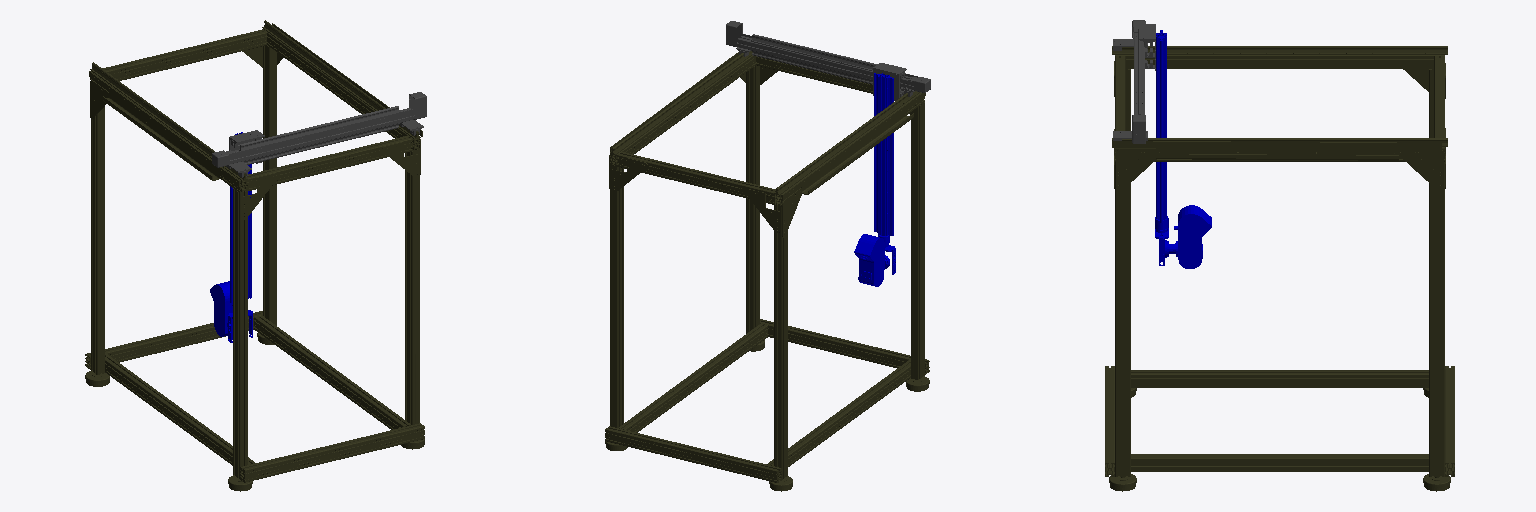
URDF robot description (prise3):
<?xml version="1.0" ?>
<!-- =================================================================================== -->
<!-- |    This document was autogenerated by xacro from ./robots/prise4.xacro          | -->
<!-- |    EDITING THIS FILE BY HAND IS NOT RECOMMENDED                                 | -->
<!-- =================================================================================== -->
<!-- Revolute-Revolute Manipulator -->
<robot name="prise3" xmlns:xacro="http://www.ros.org/wiki/xacro">
  <link name="world"/>
  <link name="base_link">
    <inertial>
      <origin rpy="0 0 0" xyz="0 0 0"/>
      <mass value="54"/>
 
                    <inertia
        ixx="76.8709047512236"
        ixy="-0.317641732156655"
        ixz="-2.72714300565647"
        iyy="59.4673166498106"
        iyz="2.93869533447697"
        izz="54.3371716853488" />
   
    </inertial>
    <visual>
      <origin rpy="0 0 0" xyz="0 0 0"/>
      <geometry>
        <mesh filename="package://prise3_gazebo/meshes/base_linkv2.stl"/>
      </geometry>
      <material name="">
        <color rgba="0.25 0.25 0.16 1"/>
      </material>
    </visual>
  </link>

 <joint name="fixed" type="fixed">
    <parent link="world"/>
    <child link="base_link"/>
  </joint> 


 <link name="axe_x_link">
   <inertial>
      <origin xyz="0 0 2.27436746463313"  rpy="0 0 0" />
      <mass  value="1.24718562315346" />
      <inertia  ixx="0.00553600382926194" ixy="4.16135471249498E-07"  ixz="-2.6765103577275E-06"
        iyy="0.528726480355761" iyz="0.00063946667879318"  izz="0.527869777651479"/>
    </inertial>
    <visual>
      <origin rpy="0 0 0" xyz="0 0 0"/>
      <geometry>
        <mesh filename="package://prise3_gazebo/meshes/axe_xv2.stl"/>
      </geometry>
      <material name="">
        <color rgba="0.32 0.32 0.32 1"/>
      </material>
    </visual>
  
  </link>
  <joint name="axe_x_joint" type="prismatic">
    <origin rpy="0 0 0" xyz="0 -0.86 2.278"/>
    <parent link="base_link"/>
    <child link="axe_x_link"/>
    <axis xyz="0 1 0"/>
    <limit effort="10" lower="0" upper="1.6" velocity="0.3"/>
    <dynamics damping="10" friction="10">     </dynamics>
  </joint>

<link name="axe_y_link">
   <inertial>
      <origin xyz="-0.99969 1.1548 2.2822" rpy="0 0 0" />
      <mass value="0.083823" />
      <inertia 
        ixx="0.0047427"
        ixy="1.1132E-06"
        ixz="-2.7484E-06"
        iyy="0.0077894"
        iyz="-0.00042131"
        izz="0.0042694" />
    </inertial>
    <visual>
      <origin rpy="0 0 0" xyz="0 0 0"/>
      <geometry>
        <mesh filename="package://prise3_gazebo/meshes/axeYv2.stl"/>
      </geometry>
      <material name="">
        <color rgba="0.32 0.32 0.32 1"/>
      </material>
    </visual>
  
  </link>

 <joint name="axe_y_joint" type="prismatic">
    <origin rpy="0 0 0" xyz="-0.5 0.098 -0.025"/>
    <parent link="axe_x_link"/>
    <child link="axe_y_link"/>
    <axis xyz="1 0 0"/>
    <limit effort="10" lower="0" upper="1.0" velocity="0.3"/>
    <dynamics damping="10" friction="10">     </dynamics>
  </joint>



<link name="axe_z_link">
    <inertial>
      <origin xyz="-0.99969 1.1548 2.2822" rpy="0 0 0" />
      <mass value="0.83823" />
      <inertia
        ixx="76.8709047512236"
        ixy="-0.317641732156655"
        ixz="-2.72714300565647"
        iyy="59.4673166498106"
        iyz="2.93869533447697"
        izz="54.3371716853488" />
	</inertial>
   
    <visual>
      <origin xyz="0 0 0" rpy="0 0 0" />
      <geometry>
        <mesh filename="package://prise3_gazebo/meshes/axeZv2.stl" />
      </geometry>
      <material
        name="">
        <color   rgba="0 0 0.8 1" />
      </material>
    </visual>
  
  </link>

  <joint name="axe_z_joint" type="prismatic">
    <parent link="axe_y_link" />
    <child link="axe_z_link" />
     <origin xyz="0 0.08 -0.5" rpy="0 0 0" />
    <axis xyz="0 0 1" />
    <limit lower="0" upper="1" effort="100" velocity="0.3" />
	<dynamics damping="100" >     </dynamics>
  </joint>

<!-- poignet-->

  <link name="rotation_link">
    <inertial>
      <origin xyz="0 0 0" rpy="0 0 0" />
      <mass value="0.83823" />
      <inertia 
        ixx="0.0047427"
        ixy="1.1132E-06"
        ixz="-2.7484E-06"
        iyy="0.0077894"
        iyz="-0.00042131"
        izz="0.0042694" />
    </inertial>
    <visual>
        <origin xyz="0 0 0" rpy="0 0 0" />
      <geometry>
        <mesh filename="package://prise3_gazebo/meshes/rota.stl" />
      </geometry>
      <material
        name="">
        <color   rgba="0 0 0.8 1" />
      </material>
    </visual>
  </link>


  <joint name="rotation_joint" type="revolute">
    <parent link="axe_z_link" />
    <child link="rotation_link" />
	<origin xyz="0 0 -0.68" rpy="0 0 0" />
    	<axis xyz="0 0 1" />
	<limit effort="10" lower="0" upper="1.57" velocity="0.5"/>

  </joint>

<!-- laser-->


  <link name="laser_link">
 <inertial>
      
      <mass value="0.083823" />
      <inertia 
        ixx="0.47427"
        ixy="1.1132E-06"
        ixz="-2.7484E-06"
        iyy="0.0077894"
        iyz="-0.00042131"
        izz="0.0042694" />
    </inertial>
    <visual>
     <origin xyz="0 0 0" rpy="0 0 0" />
      <geometry>
        <mesh filename="package://prise3_gazebo/meshes/laser.stl" />
      </geometry>
      <material
        name="">
        <color   rgba="0 0 0.8 1" />
      </material>
    </visual>
    
  </link>


  <joint name="laser_joint" type="revolute">
    <parent link="rotation_link" />
    <child link="laser_link" />
  
	<origin xyz="0 0 -0.1" rpy="0 0.20 1.57" />
    	<axis xyz="0 1 0" />
        <limit effort="100" lower="0" upper="1.57" velocity="0.1"/>
	<dynamics damping="01" >     </dynamics>
  </joint>


  <!-- Hokuyo Laser -->
  <link name="hokuyo_link">
    <visual>
      <origin xyz="0 0 0" rpy="0 0 0"/>
      <geometry>
        <mesh filename="package://prise3_gazebo/meshes/hokuyo.dae"/>
      </geometry>
    </visual>

    <inertial>
      <mass value="0.01" />
      <origin xyz="0 0 0" rpy="0 0 0"/>
      <inertia ixx="1e-6" ixy="0" ixz="0" iyy="1e-6" iyz="0" izz="1e-6" />
    </inertial>
  </link>


<joint name="hokuyo_joint" type="fixed">
    <axis xyz="0 1 0" />
    <origin xyz=" 0.28 0 0" rpy="0 -0.2 0"/>
    <parent link="laser_link"/>
    <child link="hokuyo_link"/>
  </joint>


<gazebo>
  <plugin name="gazebo_ros_control" filename="libgazebo_ros_control.so">
    <robotNamespace>/prise3</robotNamespace>
  </plugin>
</gazebo>

<transmission name="trans_x">
  <type>transmission_interface/SimpleTransmission</type>
  <joint name="axe_x_joint">
    <hardwareInterface>EffortJointInterface</hardwareInterface>
  </joint>
  <actuator name="xmotor">
    <mechanicalReduction>2</mechanicalReduction>
    <hardwareInterface>EffortJointInterface</hardwareInterface>
  </actuator>
</transmission>


<transmission name="trans_y">
  <type>transmission_interface/SimpleTransmission</type>
  <joint name="axe_y_joint">
    <hardwareInterface>EffortJointInterface</hardwareInterface>
  </joint>
  <actuator name="ymotor">
    <mechanicalReduction>4</mechanicalReduction>
    <hardwareInterface>EffortJointInterface</hardwareInterface>
  </actuator>
</transmission>



<transmission name="trans_z">
  <type>transmission_interface/SimpleTransmission</type>
  <joint name="axe_z_joint">
    <hardwareInterface>EffortJointInterface</hardwareInterface>
  </joint>
  <actuator name="zmotor">
    <mechanicalReduction>4</mechanicalReduction>
    <hardwareInterface>EffortJointInterface</hardwareInterface>
  </actuator>
</transmission>



<transmission name="rotation_z">
  <type>transmission_interface/SimpleTransmission</type>
  <joint name="rotation_joint">
    <hardwareInterface>EffortJointInterface</hardwareInterface>
  </joint>
  <actuator name="rot_motor">
    <mechanicalReduction>1</mechanicalReduction>
    <hardwareInterface>EffortJointInterface</hardwareInterface>
  </actuator>
</transmission>



<transmission name="rotation_laser">
  <type>transmission_interface/SimpleTransmission</type>
  <joint name="laser_joint">
    <hardwareInterface>EffortJointInterface</hardwareInterface>
  </joint>
  <actuator name="rot_laser_motor">
    <mechanicalReduction>1</mechanicalReduction>
    <hardwareInterface>EffortJointInterface</hardwareInterface>
  </actuator>
</transmission>

 <!-- hokuyo -->
  <gazebo reference="hokuyo_link">
    <sensor type="gpu_ray" name="head_hokuyo_sensor">
      <pose>0 0 0 0 0 0</pose>
      <visualize>false</visualize>
      <update_rate>40</update_rate>
      <ray>
         <scan>
          <horizontal>
            <samples>720</samples>
            <resolution>1</resolution>
            <min_angle>-0.470796</min_angle>
            <max_angle>0.470796</max_angle>
          </horizontal>
        </scan>
        <range>
          <min>0.015</min>
          <max>0.92</max>
          <resolution>0.001</resolution>
        </range>
        <noise>
          <type>gaussian</type>
          <!-- Noise parameters based on published spec for Hokuyo laser
               achieving "+-30mm" accuracy at range < 10m.  A mean of 0.0m and
               stddev of 0.01m will put 99.7% of samples within 0.03m of the true
               reading. -->
          <mean>0.0</mean>
          <stddev>0.01</stddev>
        </noise>
      </ray>
      <plugin name="gazebo_ros_head_hokuyo_controller" filename="libgazebo_ros_gpu_laser.so">
        <topicName>/prise3/laser/scan</topicName>
        <frameName>hokuyo_link</frameName>
      </plugin>
    </sensor>
  </gazebo>





</robot>

--- Facts derived from the render (not from the file) ---
Views: 3 orthographic renders of the robot side by side, from view 1: azimuth 30°, elevation 25°; view 2: azimuth 150°, elevation 25°; view 3: azimuth 270°, elevation 25°.
Robot: prise3 — 8 links, 7 joints (2 revolute, 3 prismatic, 2 fixed); root link world; default pose: all joints at 0.
Visible links, largest first — view 1: base_link, axe_x_link, laser_link, axe_z_link; view 2: base_link, axe_x_link, axe_z_link, laser_link; view 3: base_link, laser_link, axe_z_link, axe_x_link.
Link boxes in pixels (x1,y1,x2,y2): base_link: [85, 20, 424, 491]; axe_x_link: [212, 92, 426, 177]; laser_link: [210, 281, 232, 336]; axe_z_link: [230, 132, 251, 302]; base_link: [605, 51, 929, 491]; axe_x_link: [726, 21, 930, 96]; axe_z_link: [874, 73, 893, 235]; laser_link: [854, 234, 889, 286]; base_link: [1105, 46, 1454, 491]; laser_link: [1165, 205, 1211, 268]; axe_z_link: [1156, 30, 1166, 222]; axe_x_link: [1113, 20, 1147, 143].
Size in the robot's own frame: 1.53 by 2.02 by 2.38 metres.
6 mesh visuals loaded from 7 distinct referenced files (6 binary STL); not drawn: 1 (reference not matched to a file when rendering).
